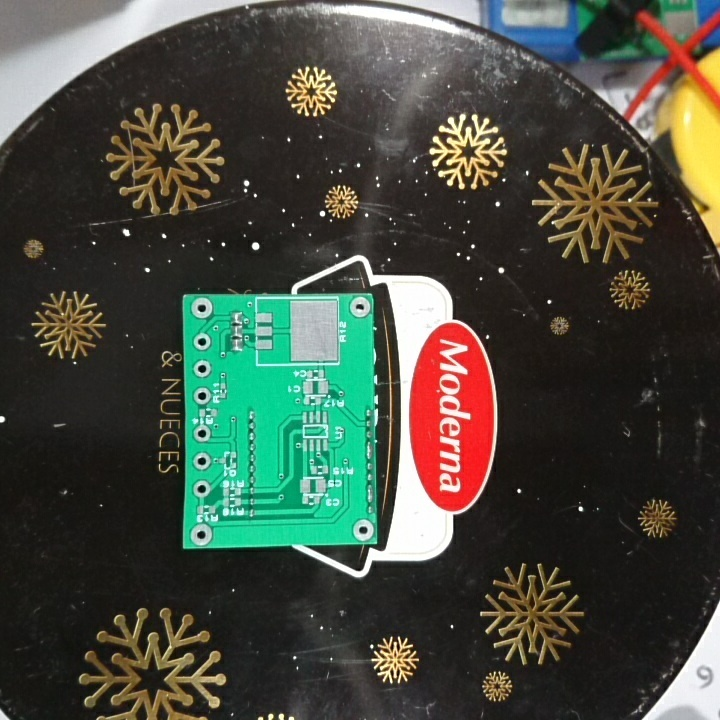F: (188, 295, 217, 324), (188, 520, 216, 547), (347, 297, 373, 321), (351, 516, 374, 540), (192, 423, 216, 446), (191, 386, 214, 408), (191, 358, 214, 380), (191, 331, 213, 354), (191, 478, 212, 501), (191, 452, 211, 472)
P: (363, 440, 374, 459), (364, 484, 375, 503)
